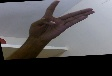hand: (27, 1, 95, 49)
